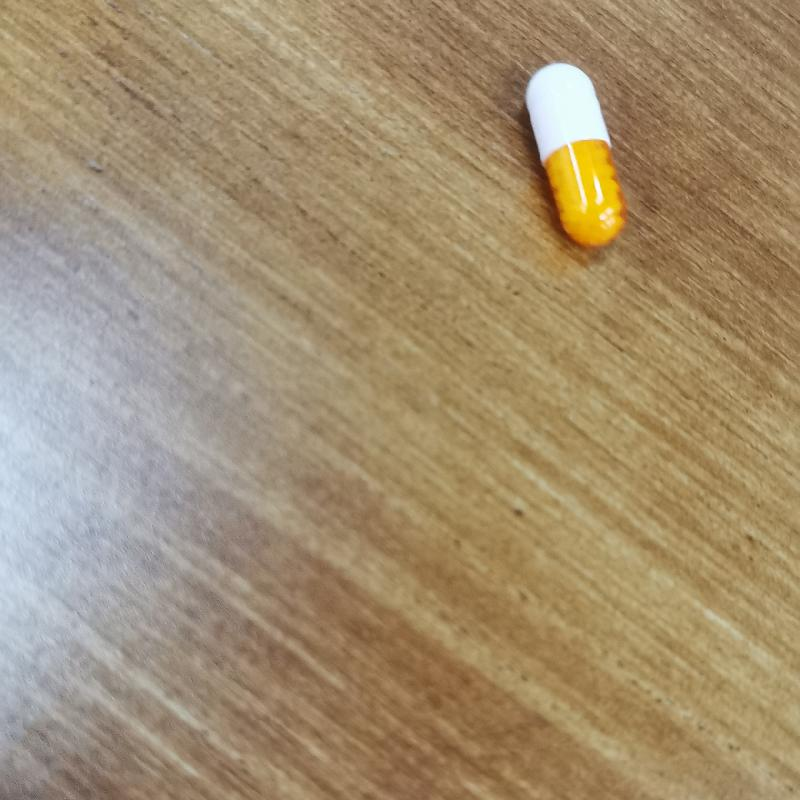pills: (510, 60, 646, 254)
